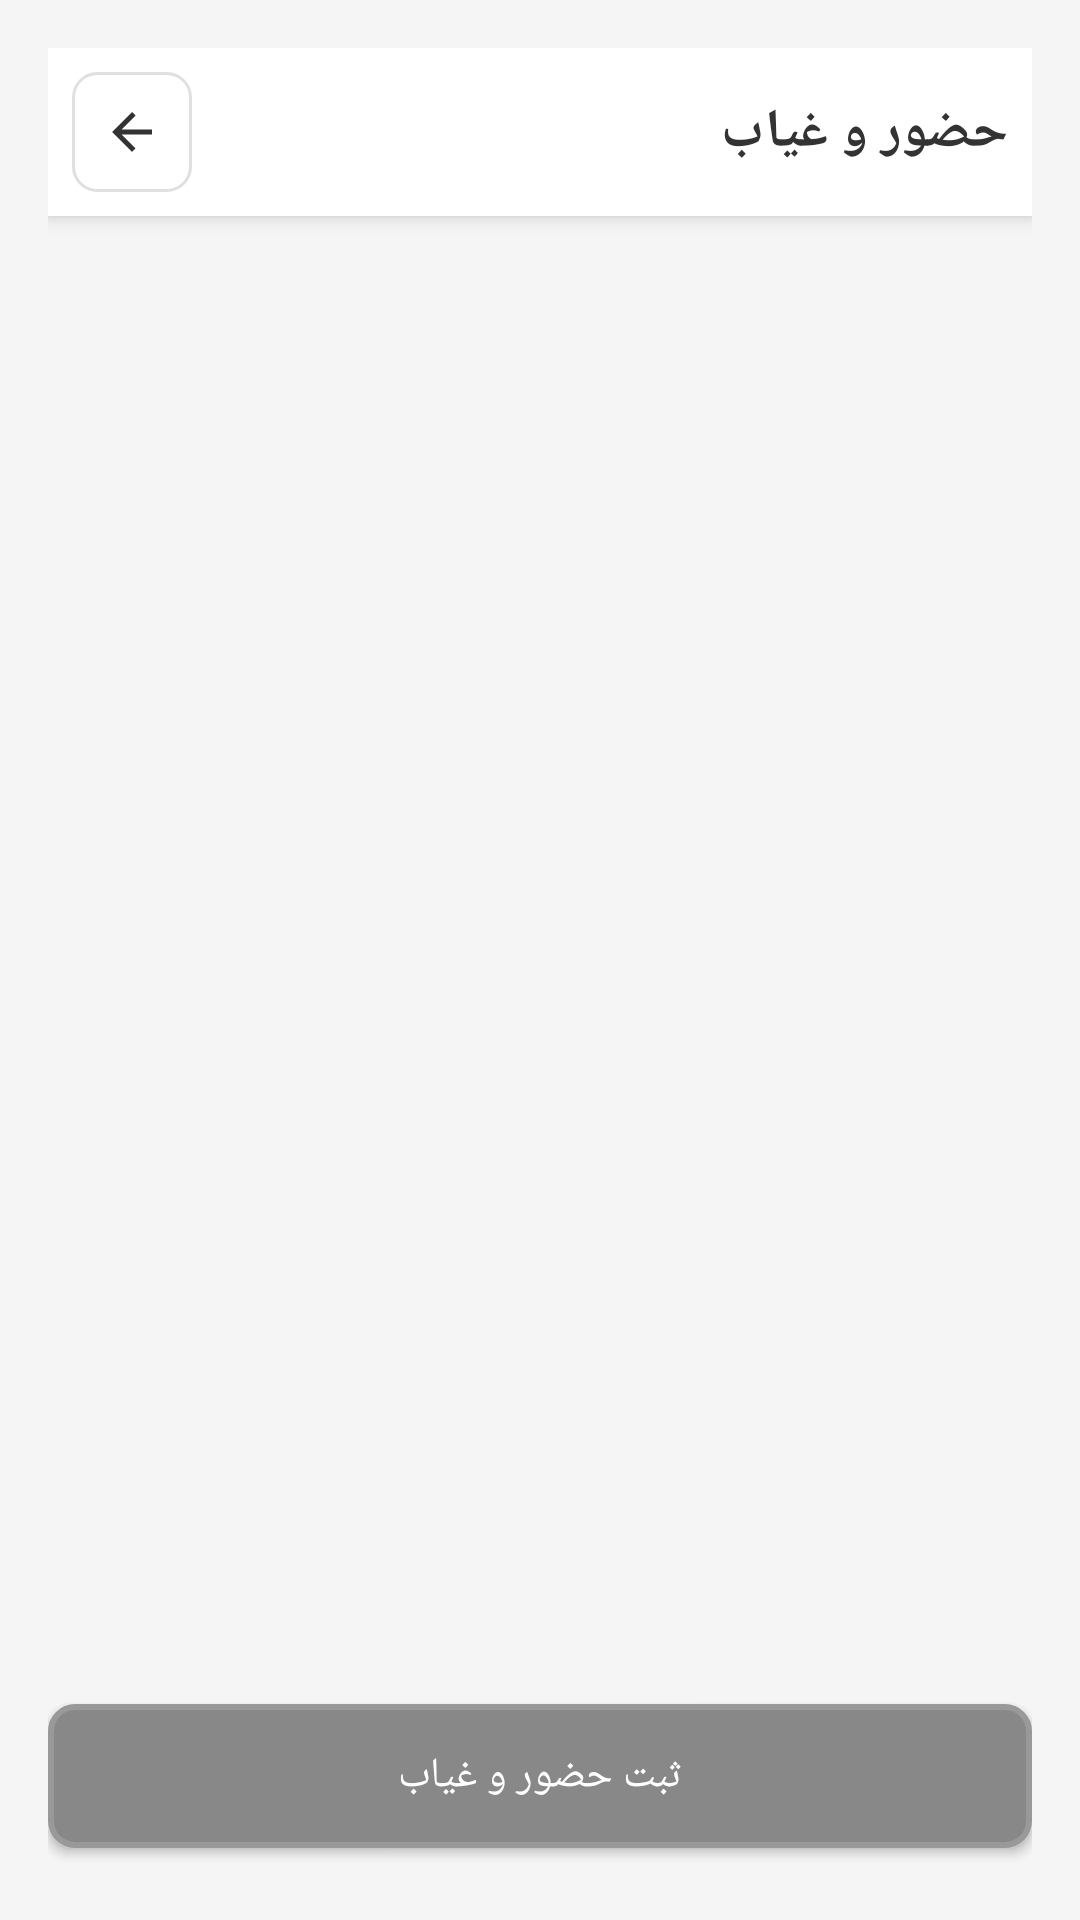

Screen size 1080 x 1920. Icon name, then its center in pixels as [x,y]:
بازگشت: [132,132]
